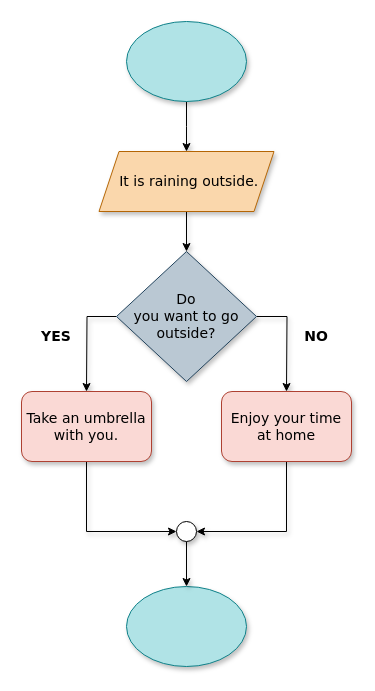
Image size: 375x691. Some labels were removed from this diagram. Here are the shapes that lost their labels. From the top down, the centre of each, then its label:
pixel 187 62: START
pixel 187 628: END
